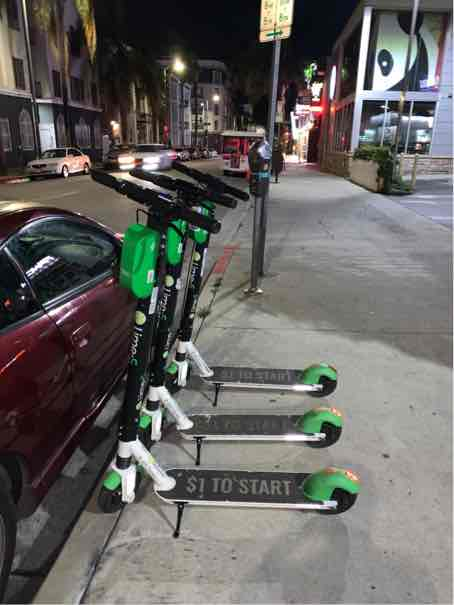too close: (68, 446, 160, 527)
